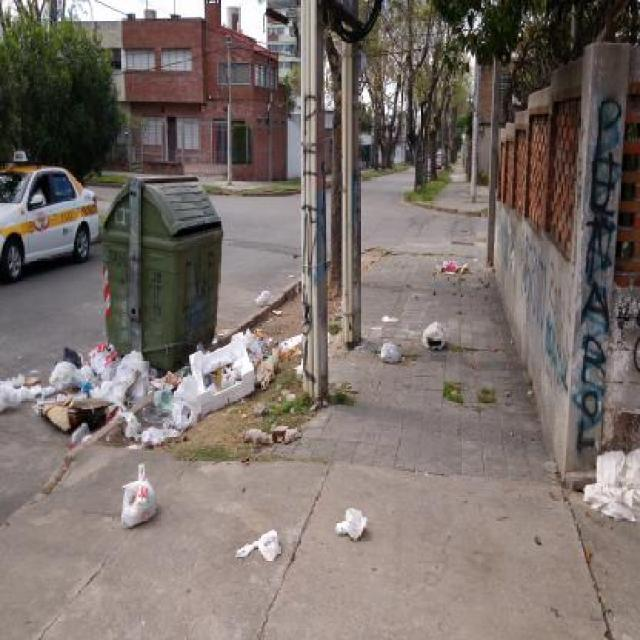garbage: (2, 352, 196, 444), (183, 329, 286, 396), (581, 438, 640, 530), (114, 469, 168, 530), (232, 521, 286, 564), (420, 306, 450, 361), (435, 248, 470, 281), (382, 343, 400, 366)
